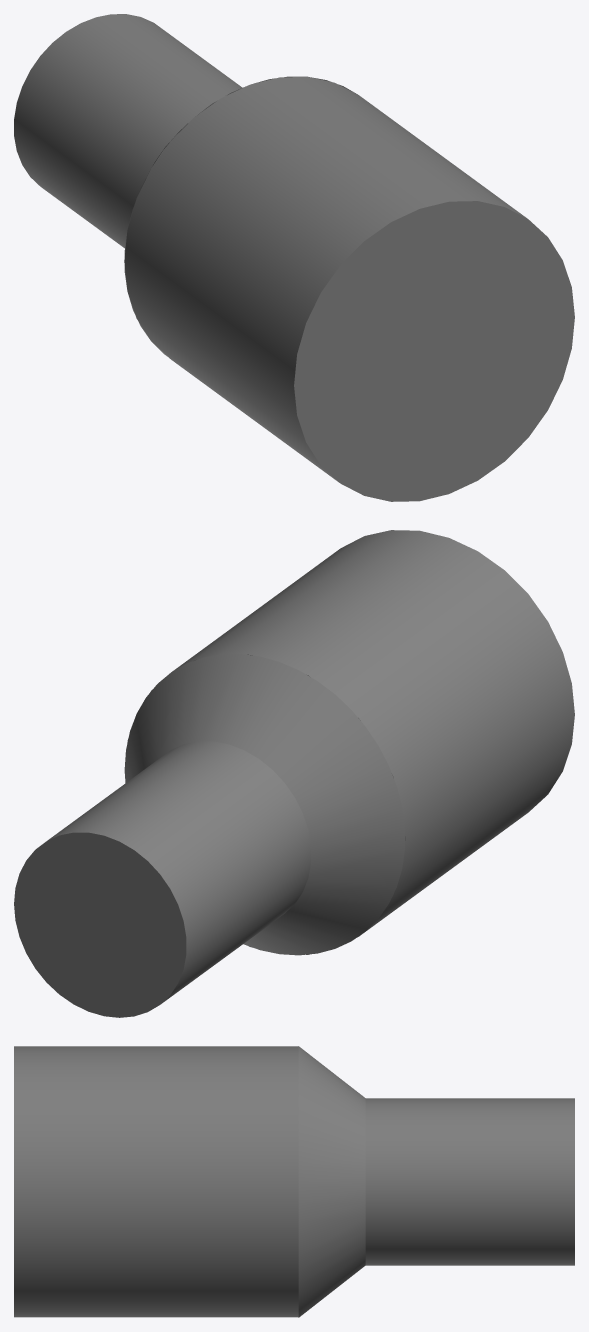
Rendered from ysHole.glb.
The picture shows the model from 3 angles, top to bottom: view 1: azimuth 30°, elevation 25°; view 2: azimuth 150°, elevation 25°; view 3: azimuth 270°, elevation 25°; orthographic projection. The views are drawn at different scales.
Visible parts, largest first — view 1: node_id8, node_id12, node_id16; view 2: node_id8, node_id4, node_id16, node_id18; view 3: node_id8, node_id16, node_id4.
Part boxes in pixels (x1,y1,x2,y2): node_id8: [124, 77, 527, 482]; node_id12: [294, 201, 574, 501]; node_id16: [14, 14, 242, 248]; node_id8: [172, 530, 574, 935]; node_id4: [124, 654, 404, 955]; node_id16: [47, 741, 310, 1003]; node_id18: [14, 832, 186, 1017]; node_id8: [14, 1046, 298, 1317]; node_id16: [365, 1098, 574, 1265]; node_id4: [298, 1046, 365, 1317].
Size of the model in its own units: 0.4378 by 0.4375 by 0.9025.
Materials: 9 (9 with a texture image).
